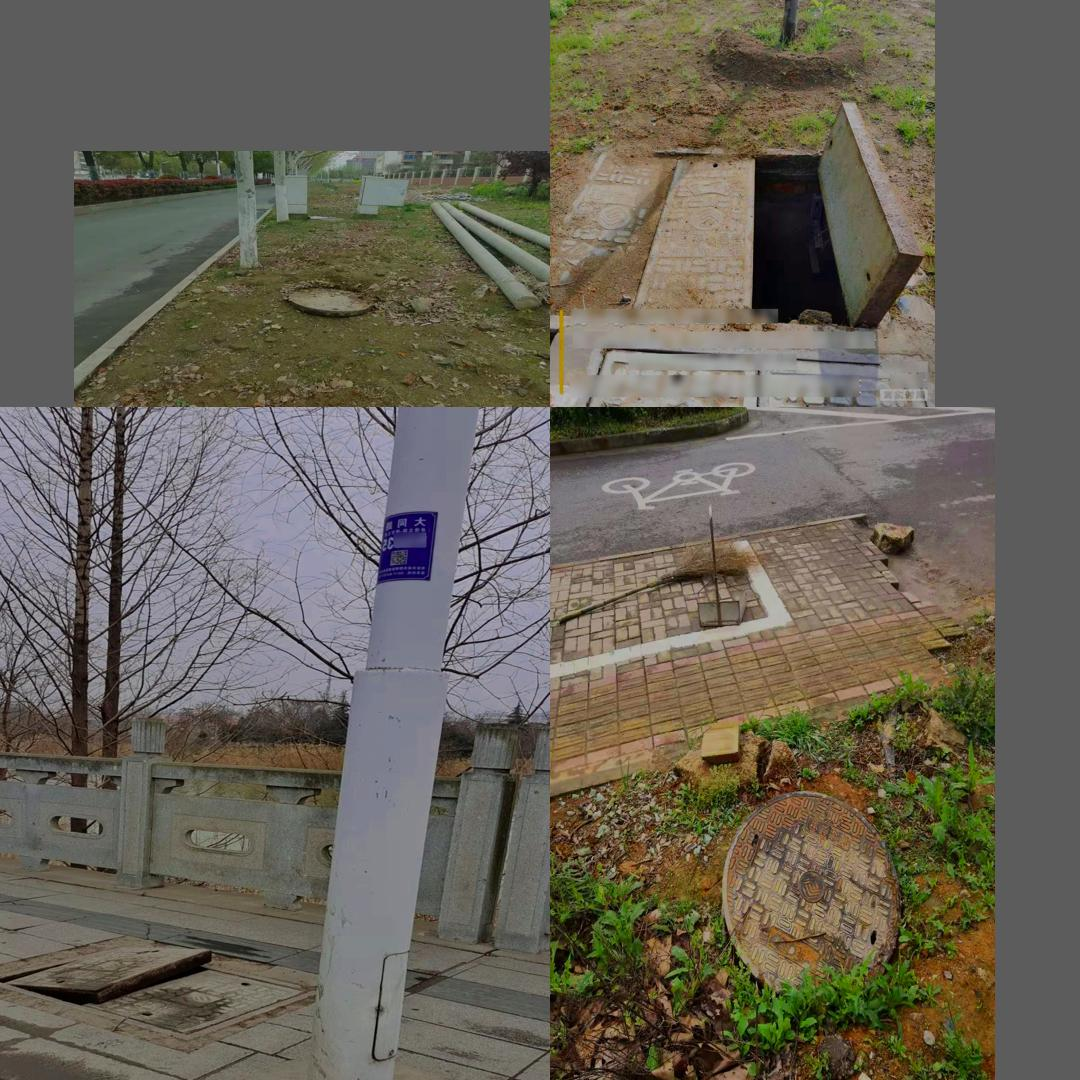uncovered: (553, 105, 930, 345), (720, 792, 901, 999), (0, 917, 230, 1013), (288, 289, 374, 317)
